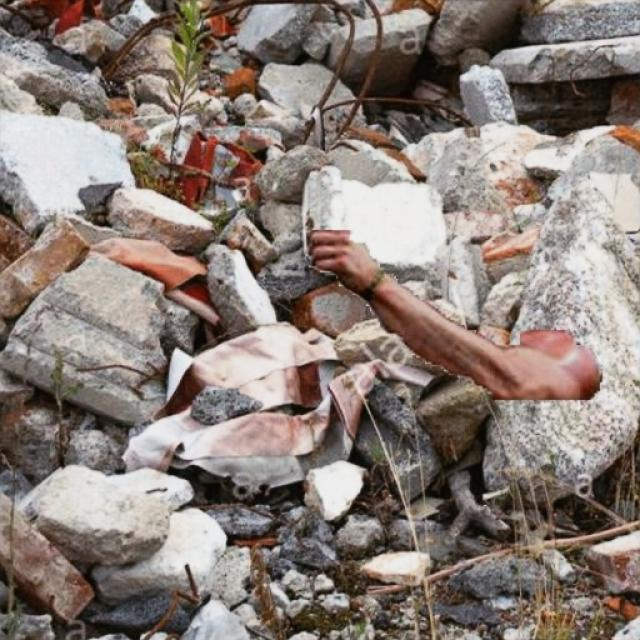Person in Rubble: (306, 230, 602, 399)
